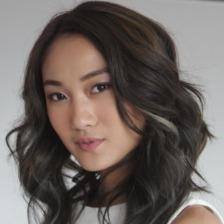Non hijab: (8, 0, 213, 224)
